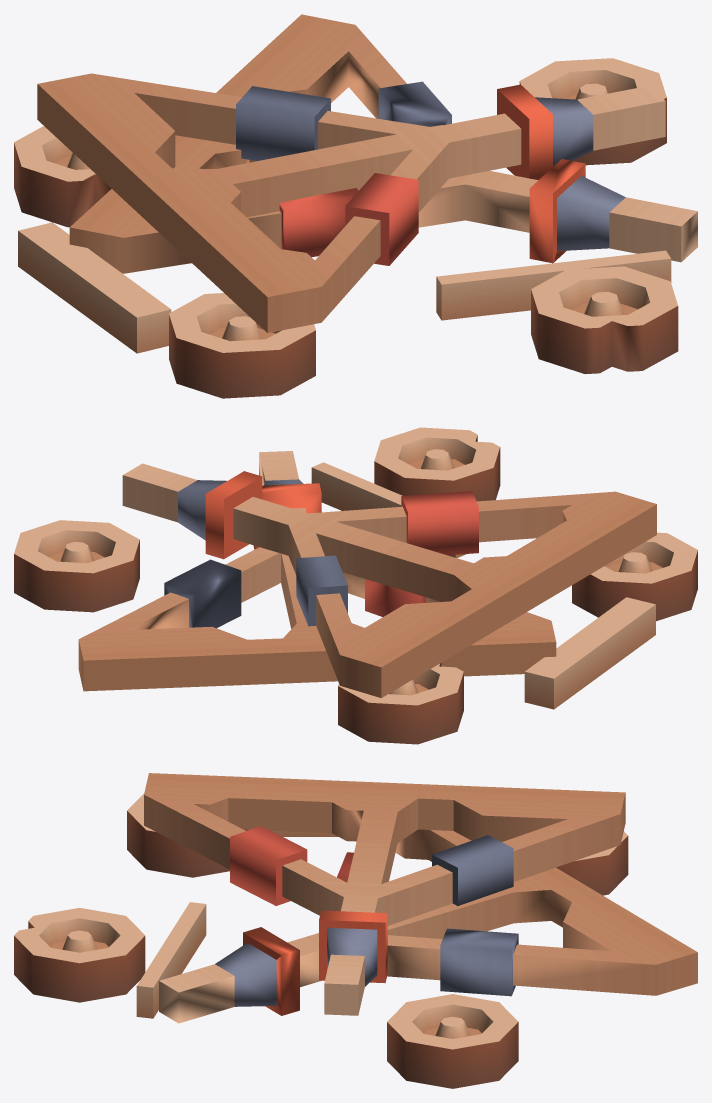
The model's file is siege-trebuchet-demolished.fbx.
3 views of the same model, one above another, from view 1: azimuth 30°, elevation 25°; view 2: azimuth 150°, elevation 25°; view 3: azimuth 270°, elevation 25° (orthographic). The views are drawn at different scales.
Visible parts, largest first — view 1: siege-trebuchet-demolished; view 2: siege-trebuchet-demolished; view 3: siege-trebuchet-demolished.
Part boxes in pixels (x1,y1,x2,y2): siege-trebuchet-demolished: [14, 14, 697, 398]; siege-trebuchet-demolished: [14, 427, 697, 744]; siege-trebuchet-demolished: [14, 773, 697, 1088].
Size of the model in its own units: 1.93 by 2.1 by 0.3097.
